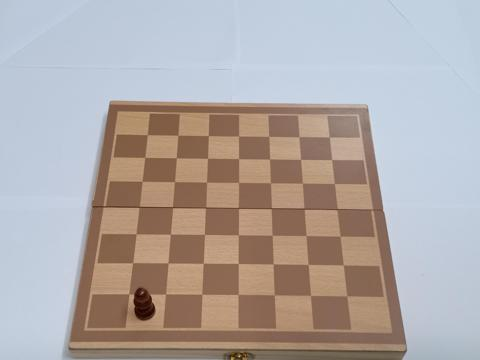xcorner: (131, 230, 141, 240), (124, 289, 134, 299), (233, 204, 243, 214), (233, 231, 243, 241), (268, 260, 278, 270), (305, 291, 315, 301), (335, 232, 345, 242), (143, 132, 153, 141), (141, 154, 150, 164), (138, 178, 147, 188), (135, 203, 144, 213), (173, 132, 183, 141), (170, 178, 179, 188), (165, 231, 175, 240), (163, 259, 172, 269), (160, 290, 170, 299), (204, 132, 213, 142), (200, 204, 210, 213), (199, 231, 209, 240), (234, 132, 243, 142), (233, 179, 243, 188), (233, 290, 242, 300), (265, 155, 274, 165), (266, 205, 276, 214), (267, 232, 277, 241), (294, 133, 304, 142), (296, 155, 305, 165), (298, 179, 307, 189), (299, 205, 309, 214), (301, 232, 311, 241), (303, 261, 313, 270), (327, 156, 337, 165), (128, 259, 137, 268), (172, 155, 181, 164), (168, 204, 177, 213), (203, 155, 212, 164), (202, 179, 211, 188), (198, 260, 207, 269), (197, 290, 206, 299), (234, 155, 243, 164), (233, 260, 242, 269), (264, 133, 273, 142), (266, 179, 275, 188), (269, 291, 278, 300), (325, 133, 334, 142), (330, 180, 339, 189), (333, 205, 342, 214), (339, 261, 348, 270), (342, 292, 351, 301)
